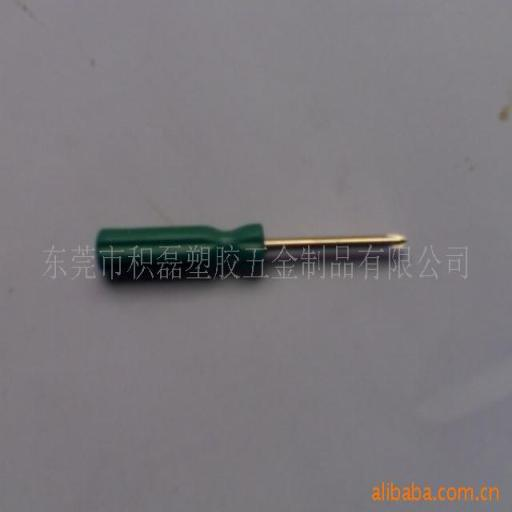screwdriver: (98, 224, 405, 277)
